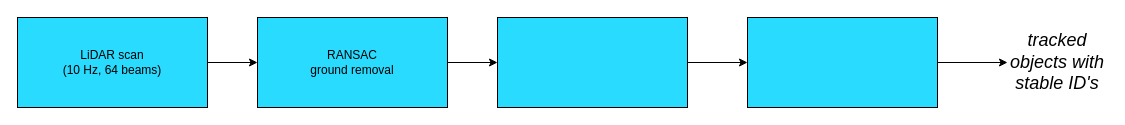
This 1125x125 diagram has some shape labels left out. The centre of each missing label's shape, as x and y in pixels:
"DBSCAN (eps = 0.5, min_samples = 10)" belongs at pixel 592 62.
"SORT tracker Kalman + Hungarian" belongs at pixel 842 62.
